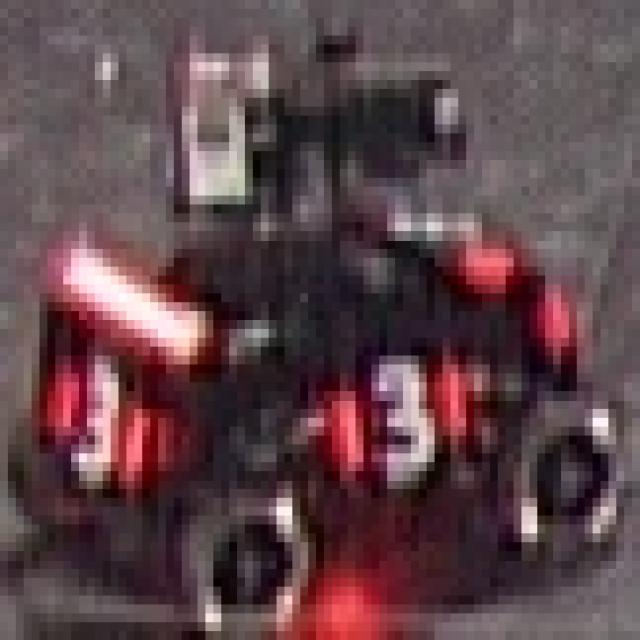R3: (308, 338, 490, 480), (32, 351, 150, 493)
